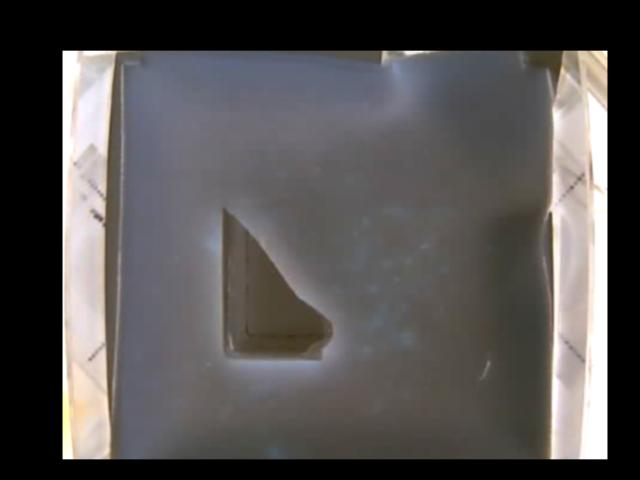China: (220, 205, 332, 359)
